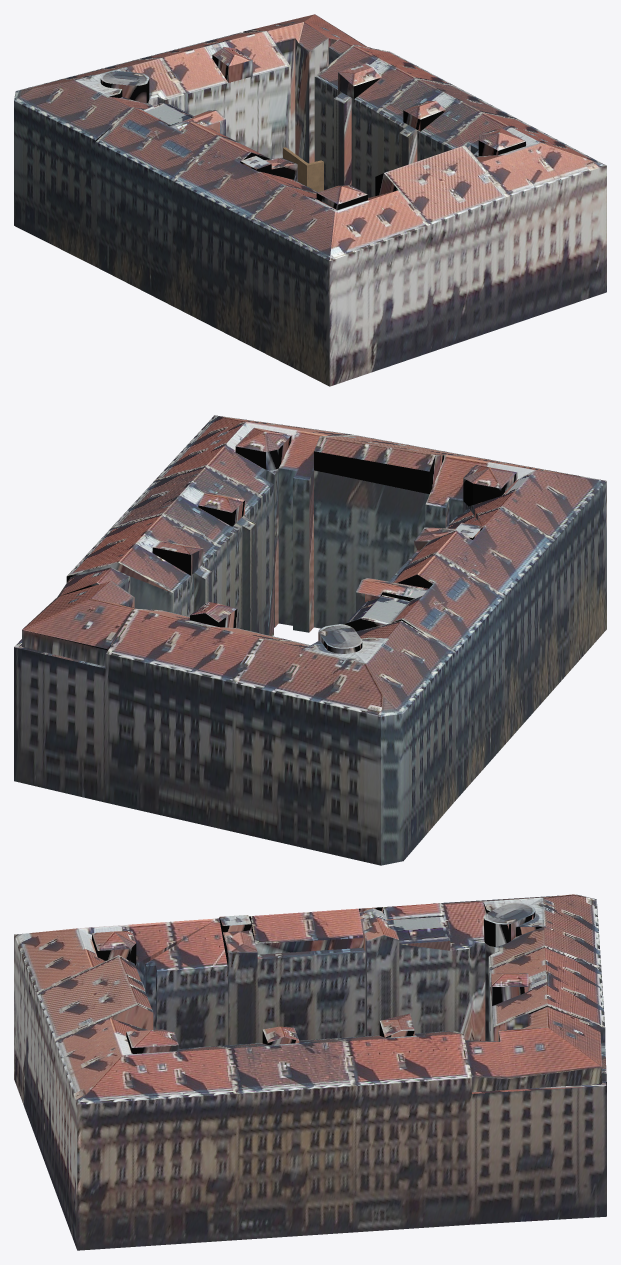
The model's file is Cours_commune_2012.dae.
The picture shows the model from 3 angles, top to bottom: view 1: azimuth 30°, elevation 25°; view 2: azimuth 150°, elevation 25°; view 3: azimuth 270°, elevation 25°; orthographic projection. The views are drawn at different scales.
Visible parts, largest first — view 1: Batiments, Toit, Murs; view 2: Batiments, Toit; view 3: Batiments, Toit.
Part boxes in pixels (x1,y1,x2,y2): Batiments: [14, 32, 606, 386]; Toit: [14, 14, 606, 260]; Murs: [283, 147, 323, 192]; Batiments: [14, 415, 606, 865]; Toit: [22, 415, 606, 716]; Batiments: [14, 894, 606, 1250]; Toit: [14, 894, 605, 1104].
Bounding box in the file's own units: 72.49 × 85.69 × 28.77.
3 materials, 3 textured.
